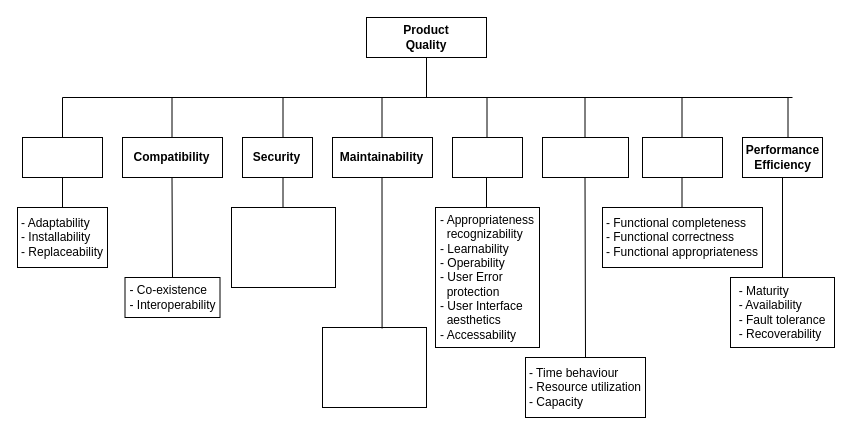
This 852x435 diagram has some shape labels left out. The box of each missing label's shape, as (x1, y1, x2, y2) in pixels:
- Confidentiality - Integrity - Non-repudiation - Accountability - Authenticity: (230, 206, 336, 288)
- Modularity - Reusability - Analyzability - Modifiability - Testability: (322, 326, 426, 408)
Functional Suitability: (642, 136, 722, 178)
Portability: (22, 136, 102, 178)
Reliability: (542, 136, 628, 178)
Usability: (452, 136, 522, 178)
